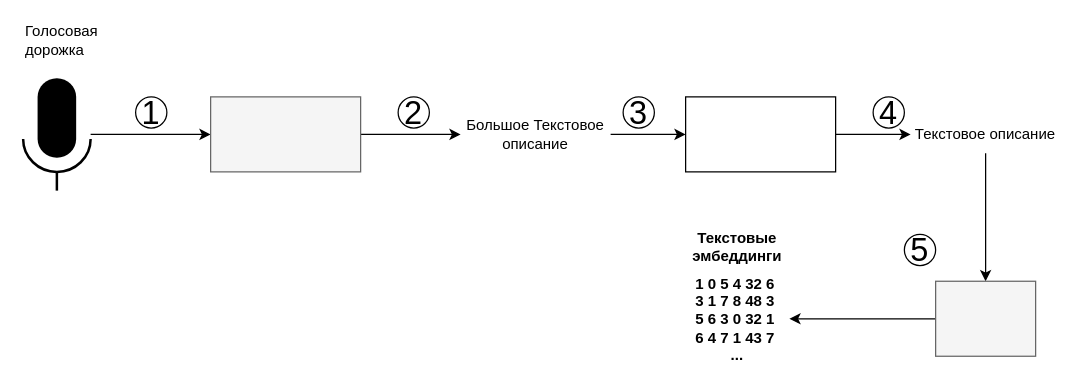
Image size: 1081x386. Some labels were removed from this diagram. The centre of each missing label's shape, as x and y in pixels:
"LaBSE" belongs at point (985, 318).
"Whisper AI" belongs at point (285, 134).
"Суммаризация и аггрегация слов (TextExtract)" belongs at point (760, 134).
